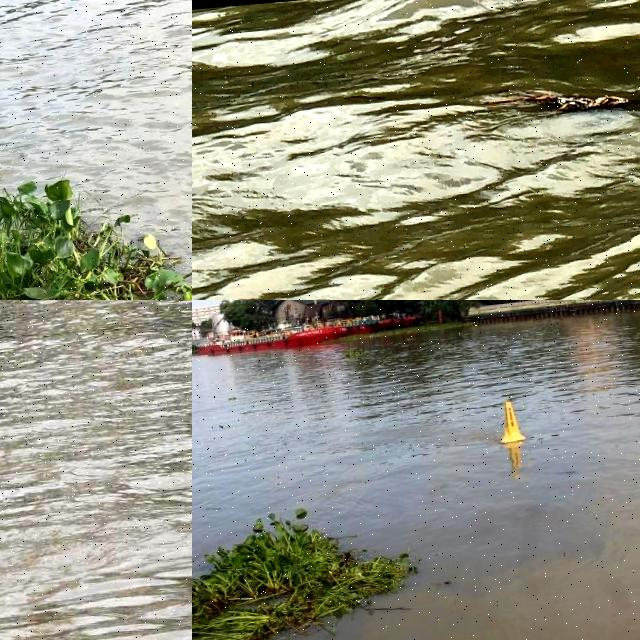water-hyacinth: (1, 133, 193, 301), (193, 503, 415, 640)
